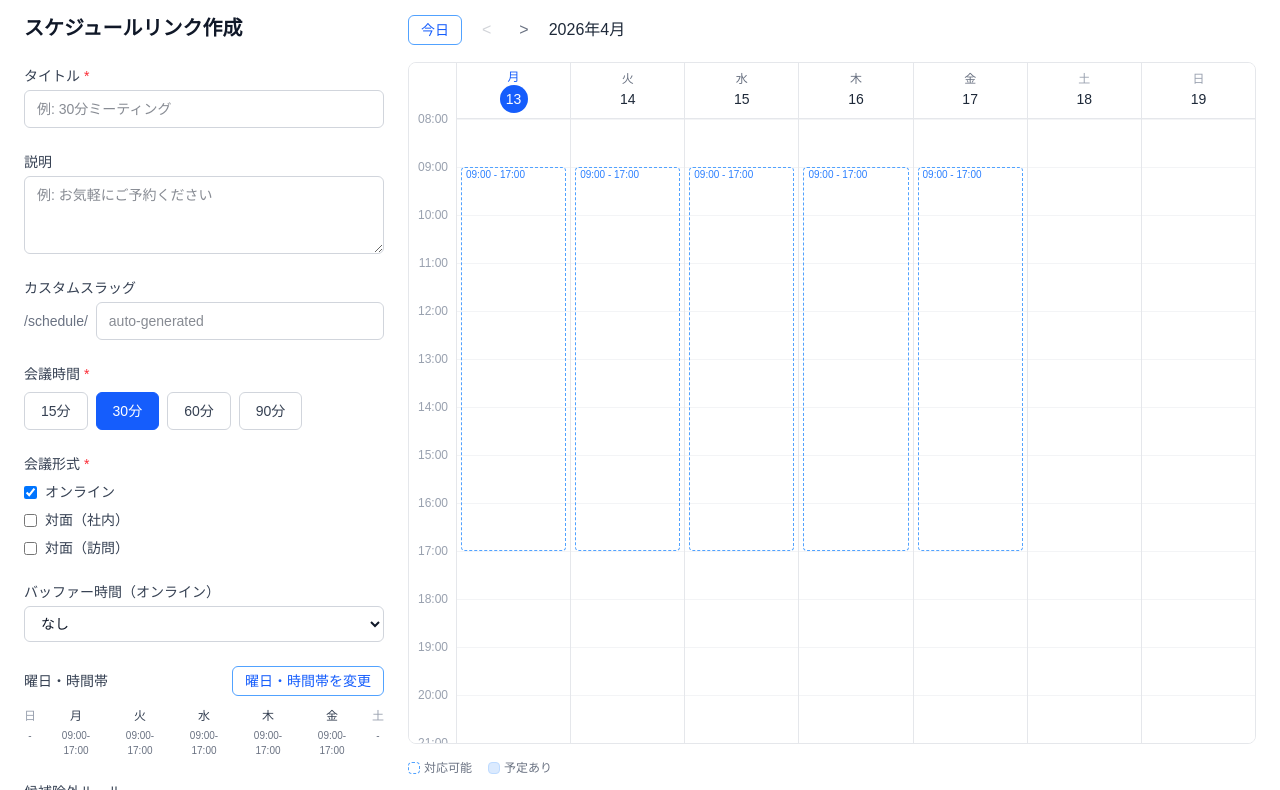
Test: ScheduleLinkForm › should show error when no meeting mode selected
Note: Fill title
Type "テスト" into the field labelled "タイトル *" at (204,109), box [24,90,384,128]
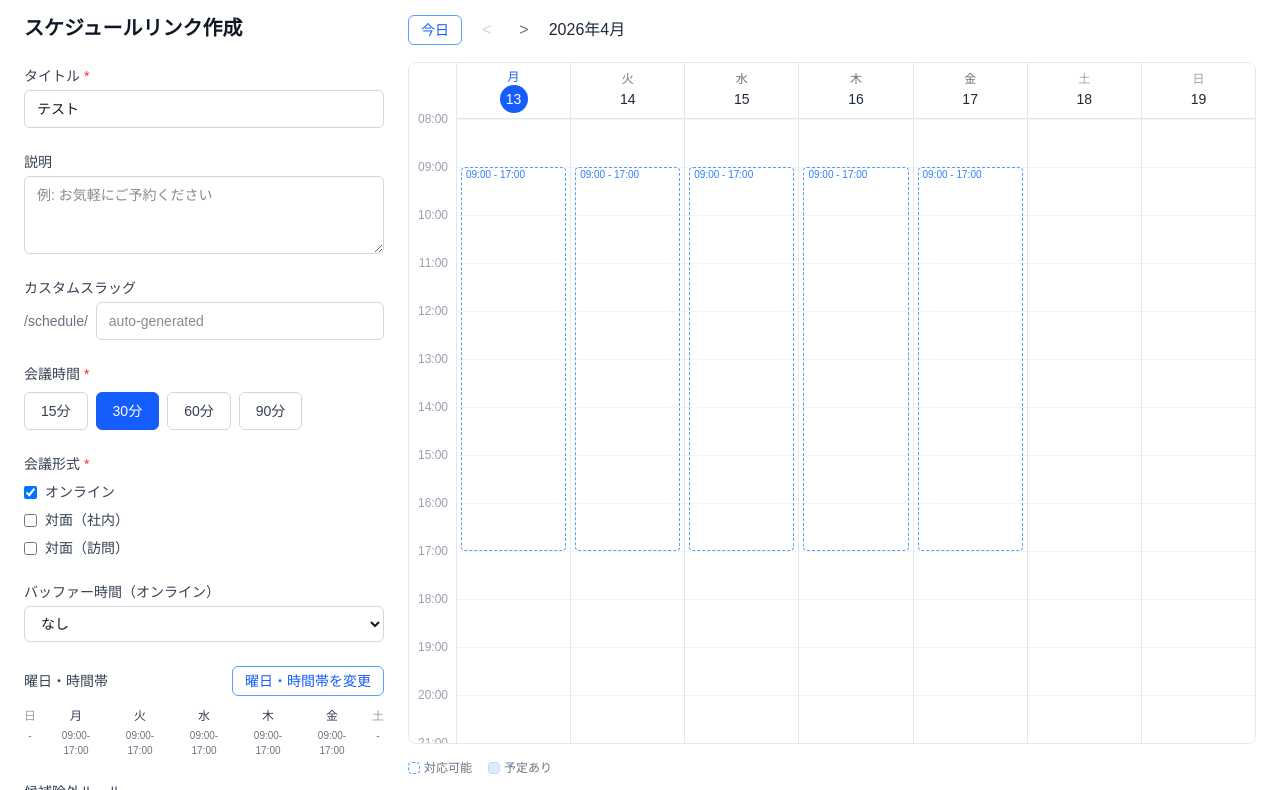
Note: Uncheck online (default is checked)
Click the checkbox labelled "オンライン" at (30,492), box [24,486,37,498]
(page scrolled)
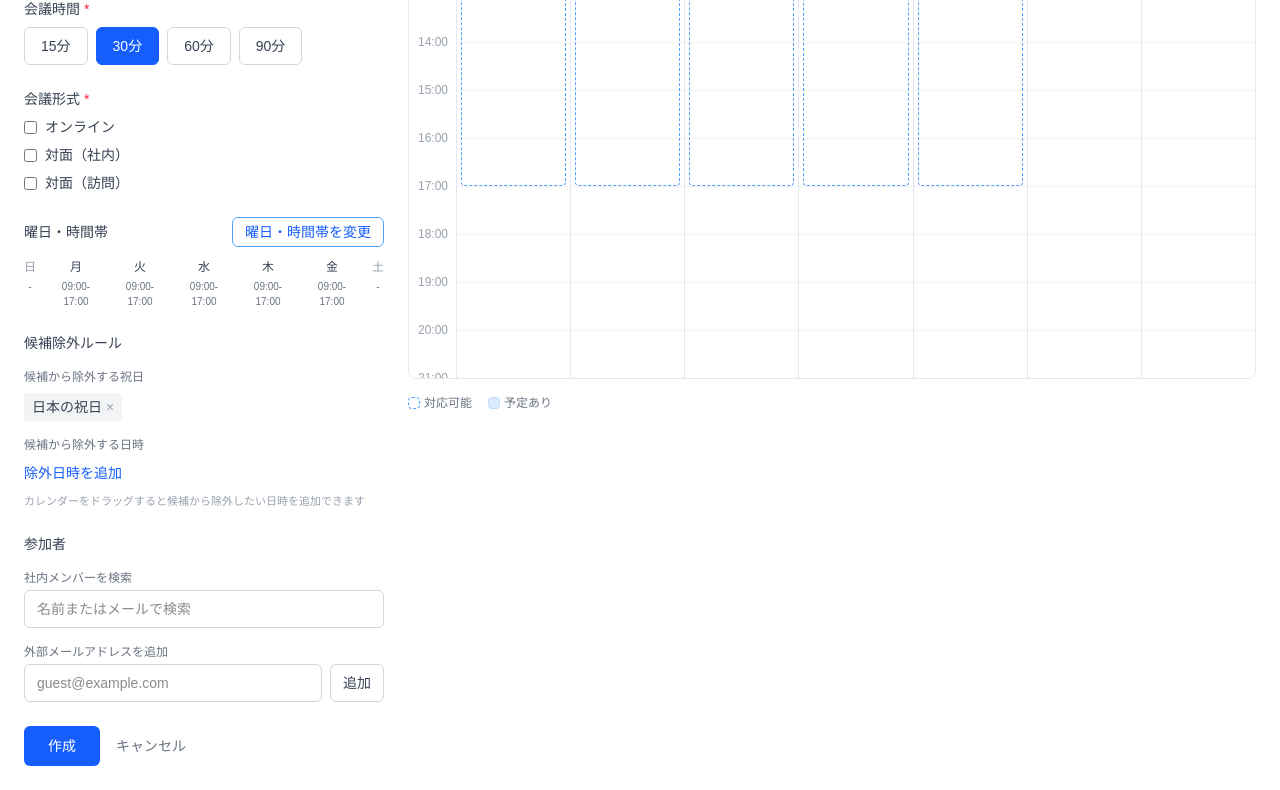
Click the button "作成" at (62,746), box [24,726,100,766]
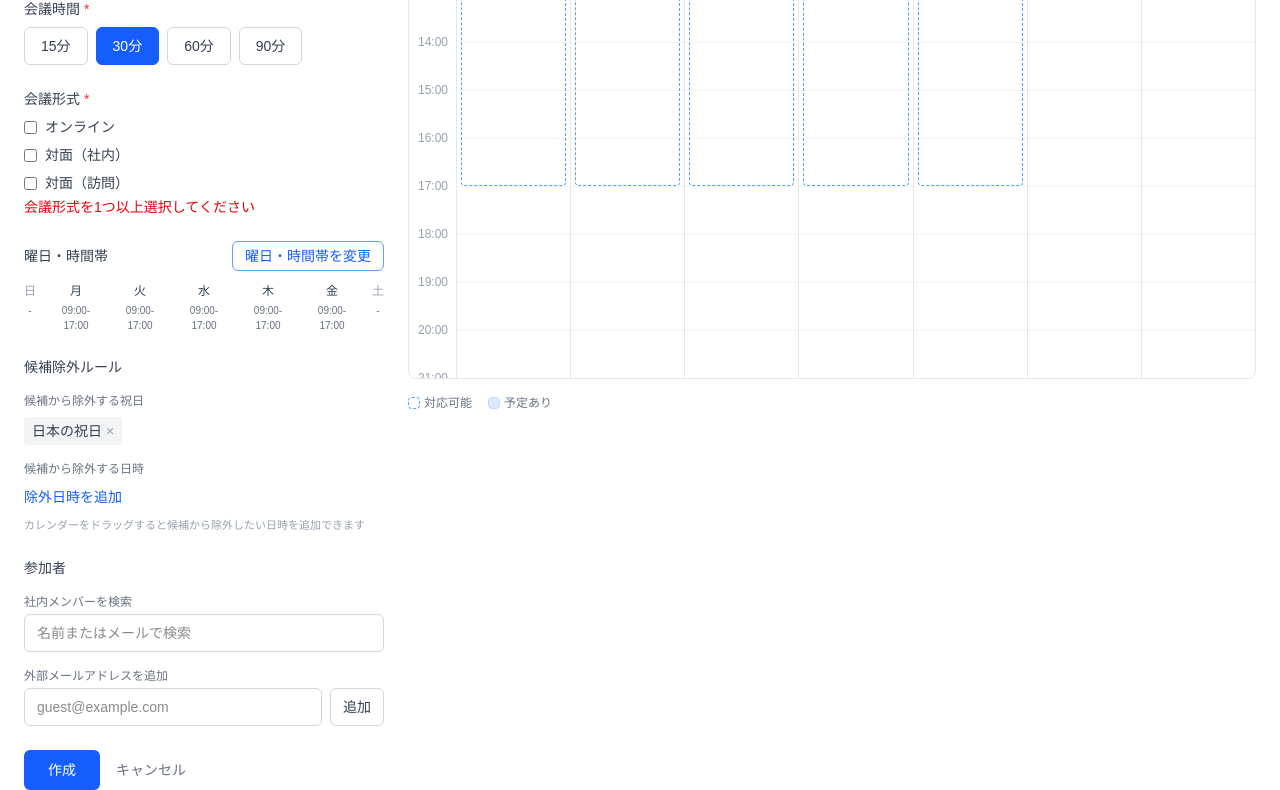
expect the text "会議形式を1つ以上選択してください" is shown: met, box [24,199,255,215]
